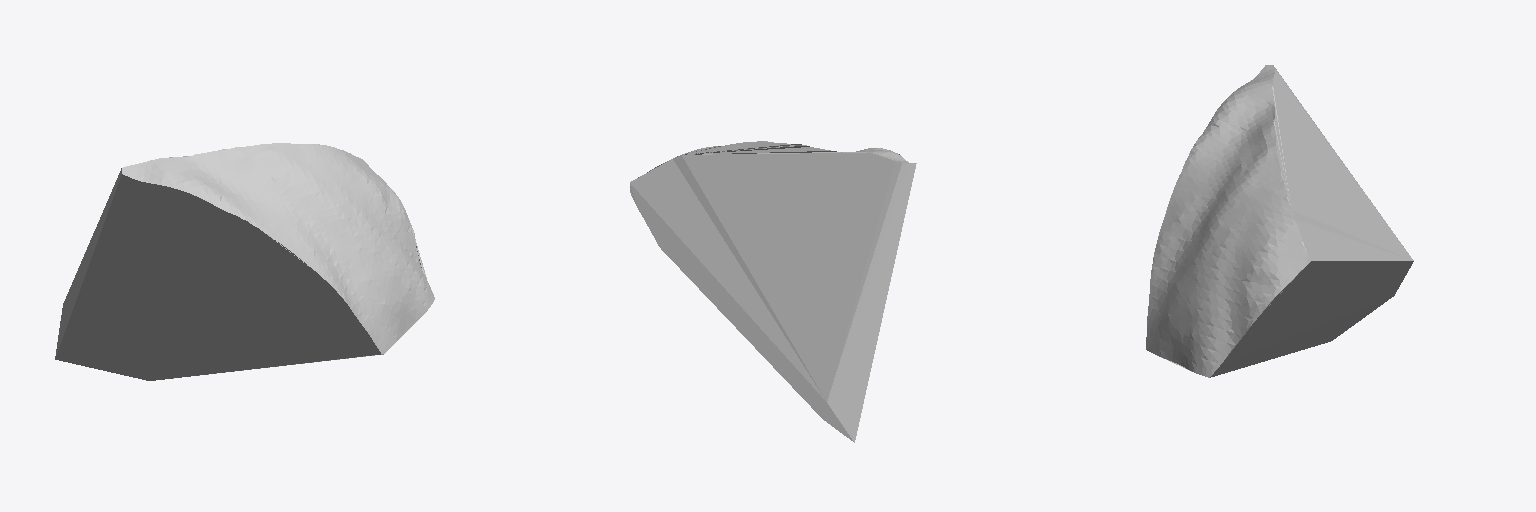
The model's file is low_cell_047.obj.
3 views of the same model, side by side, from view 1: azimuth 30°, elevation 25°; view 2: azimuth 150°, elevation 25°; view 3: azimuth 270°, elevation 25° (orthographic).
Parts seen in each view (by area): view 1: low_cell.047_low_cell.046; view 2: low_cell.047_low_cell.046; view 3: low_cell.047_low_cell.046.
Part boxes in pixels (bbox=[...]): low_cell.047_low_cell.046: bbox=[55, 143, 434, 380]; low_cell.047_low_cell.046: bbox=[630, 141, 916, 442]; low_cell.047_low_cell.046: bbox=[1146, 65, 1413, 377].
Bounding box in the file's own units: 0.7277 × 0.6019 × 0.5873.